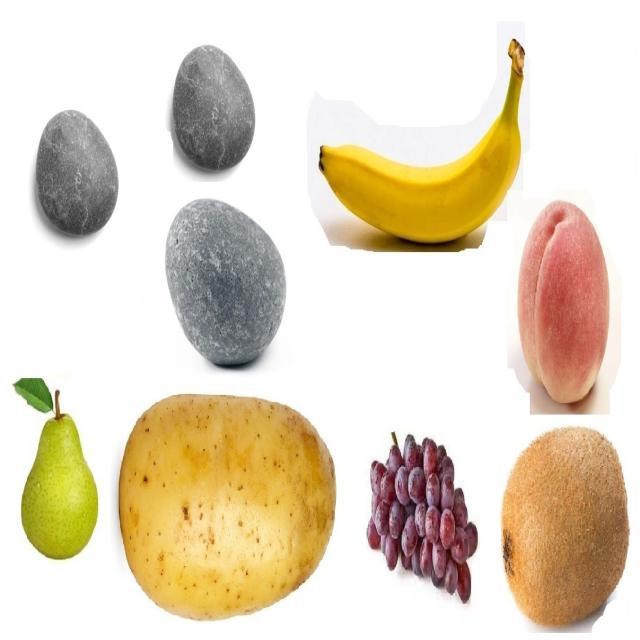potato: (119, 396, 337, 621)
